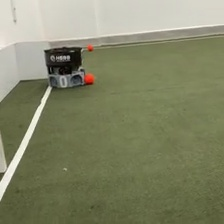ball: (83, 72, 95, 85), (86, 43, 94, 52)
robot: (42, 44, 86, 89)
